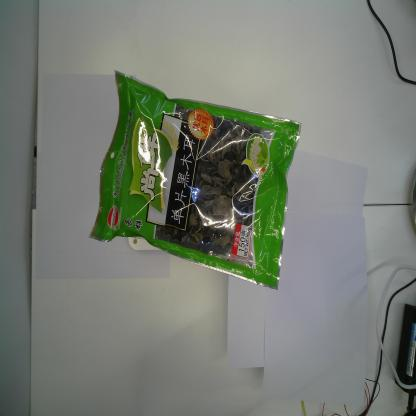Dried Food: (89, 70, 302, 290)
